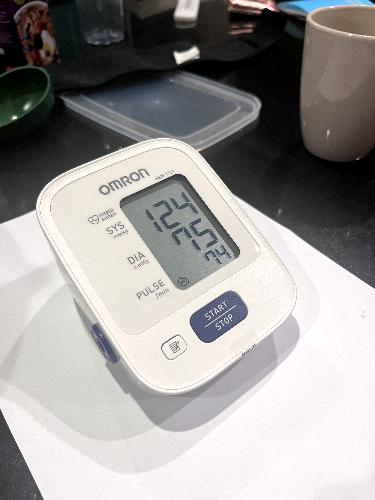bpm: (113, 155, 247, 298)
